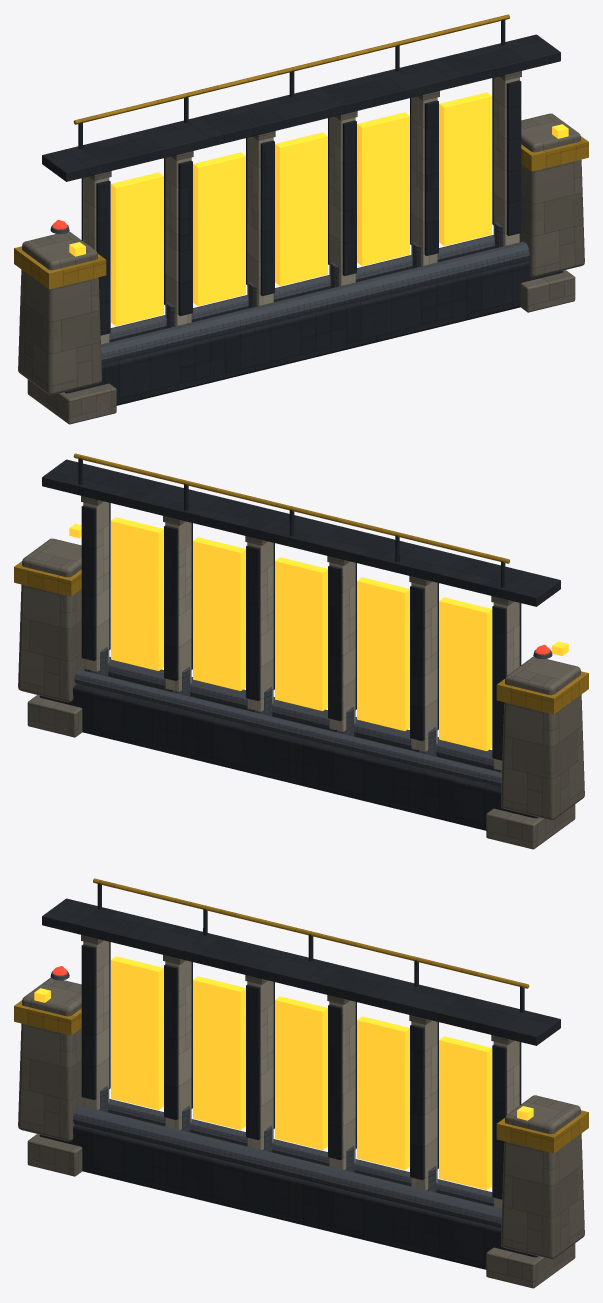
The model's file is place_radiator_bank.glb.
3 views of the same model, one above another, from view 1: azimuth 30°, elevation 25°; view 2: azimuth 150°, elevation 25°; view 3: azimuth 330°, elevation 25° (orthographic).
Visible parts, largest first — view 1: LOD0_Armor, LOD0_Beacon_Amber, LOD0_Hull_aged, LOD1_Armor, LOD1_Hull_aged, LOD0_Mechanical, LOD0_Hull, LOD0_Warning, LOD1_Warning, LOD2_Armor, LOD2_Hull_aged, LOD1_Hull; view 2: LOD0_Armor, LOD0_Beacon_Amber, LOD1_Armor, LOD0_Hull_aged, LOD1_Hull_aged, LOD0_Mechanical, LOD0_Hull, LOD0_Warning, LOD1_Warning, LOD2_Armor, LOD2_Hull_aged, LOD1_Hull (+1 smaller); view 3: LOD0_Armor, LOD0_Beacon_Amber, LOD0_Hull_aged, LOD1_Armor, LOD0_Mechanical, LOD0_Hull, LOD1_Hull_aged, LOD0_Warning, LOD2_Armor, LOD1_Warning, LOD2_Hull_aged, LOD1_Hull (+1 smaller).
Part boxes in pixels (x1,y1,x2,y2): LOD0_Armor: [42, 19, 563, 405]; LOD0_Beacon_Amber: [69, 92, 568, 325]; LOD0_Hull_aged: [18, 71, 584, 424]; LOD1_Armor: [42, 19, 562, 404]; LOD1_Hull_aged: [18, 71, 584, 423]; LOD0_Mechanical: [50, 221, 529, 364]; LOD0_Hull: [83, 76, 519, 344]; LOD0_Warning: [14, 14, 588, 289]; LOD1_Warning: [14, 20, 588, 288]; LOD2_Armor: [65, 52, 560, 405]; LOD2_Hull_aged: [18, 114, 584, 423]; LOD1_Hull: [83, 77, 519, 325]; LOD0_Armor: [39, 458, 560, 830]; LOD0_Beacon_Amber: [69, 517, 568, 750]; LOD1_Armor: [43, 458, 544, 830]; LOD0_Hull_aged: [18, 496, 584, 849]; LOD1_Hull_aged: [18, 496, 584, 849]; LOD0_Mechanical: [74, 646, 552, 787]; LOD0_Hull: [83, 501, 519, 769]; LOD0_Warning: [14, 453, 588, 714]; LOD1_Warning: [14, 562, 588, 713]; LOD2_Armor: [40, 477, 537, 829]; LOD2_Hull_aged: [19, 543, 584, 848]; LOD1_Hull: [83, 502, 508, 770]; LOD0_Armor: [39, 883, 560, 1269]; LOD0_Beacon_Amber: [34, 956, 533, 1189]; LOD0_Hull_aged: [18, 935, 584, 1288]; LOD1_Armor: [40, 909, 544, 1268]; LOD0_Mechanical: [50, 971, 501, 1228]; LOD0_Hull: [83, 940, 519, 1208]; LOD1_Hull_aged: [18, 935, 584, 1287]; LOD0_Warning: [14, 878, 588, 1153]; LOD2_Armor: [40, 916, 537, 1268]; LOD1_Warning: [14, 975, 588, 1152]; LOD2_Hull_aged: [18, 996, 584, 1287]; LOD1_Hull: [83, 941, 508, 1189].
Size of what is drawn, in the model's own units: 17.9 by 8.66 by 2.4.
Materials: 7 (5 with a texture image).
